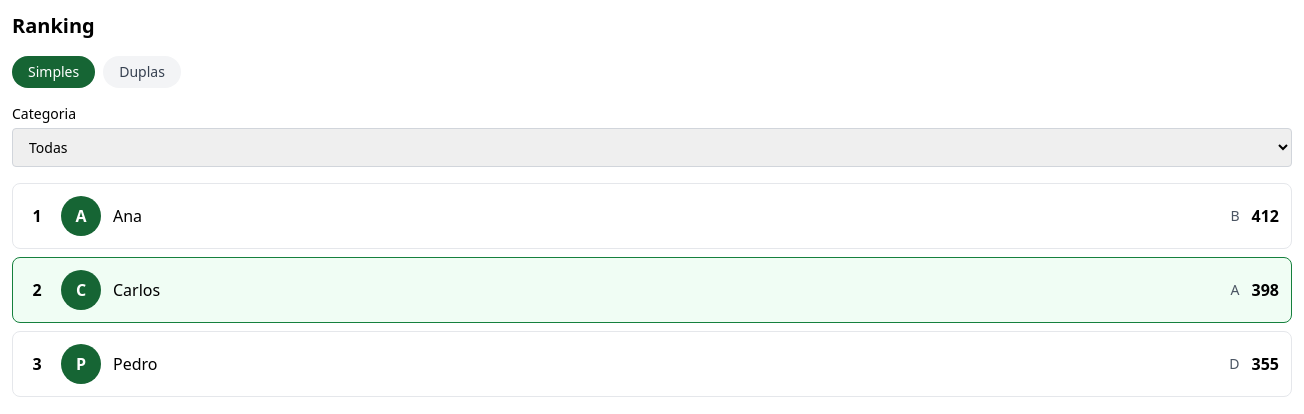
Test: filtro de categoria mantém a posição real
Check: the heading "Ana" is shown, box left=113, top=205, right=142, bottom=227
Select "D" in the dropdown labelled "Categoria" at (652, 148), box left=12, top=128, right=1292, bottom=167
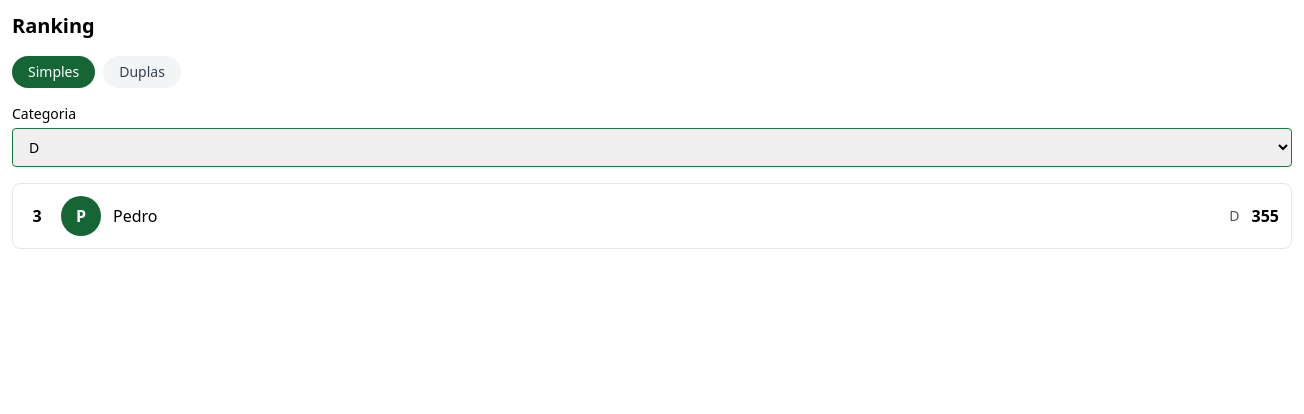
Check: the heading "Pedro" is shown, box left=113, top=205, right=158, bottom=227
Check: the number of links is 1, box left=12, top=183, right=1292, bottom=249
